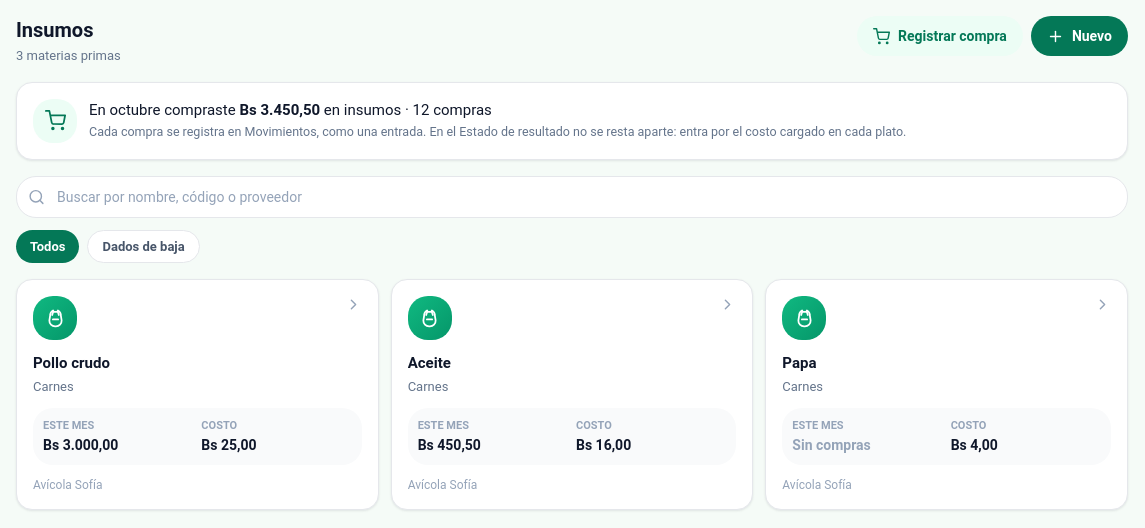
Restaurante: Registrar compra › en la papelera no se ofrece, igual que Nuevo
Expected: the heading "Pollo crudo" is shown, x1=33 y1=354 x2=110 y2=372
Click the button "Dados de baja".
click(144, 246)  # box x1=88 y1=230 x2=200 y2=263
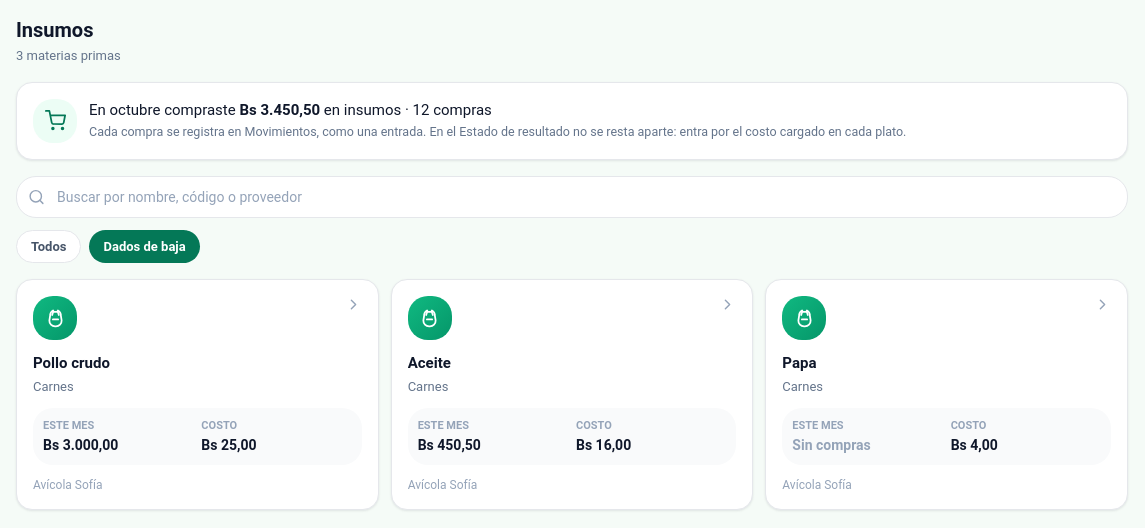
Expected: the button "Registrar compra" is gone
Expected: the button "Nuevo" is gone
